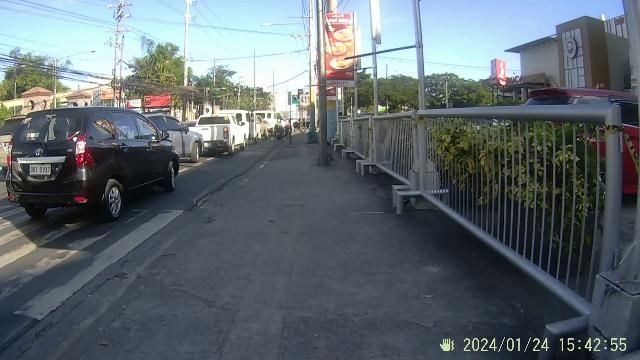car: (2, 98, 192, 226)
utility_post: (310, 0, 334, 168), (105, 0, 134, 84)
